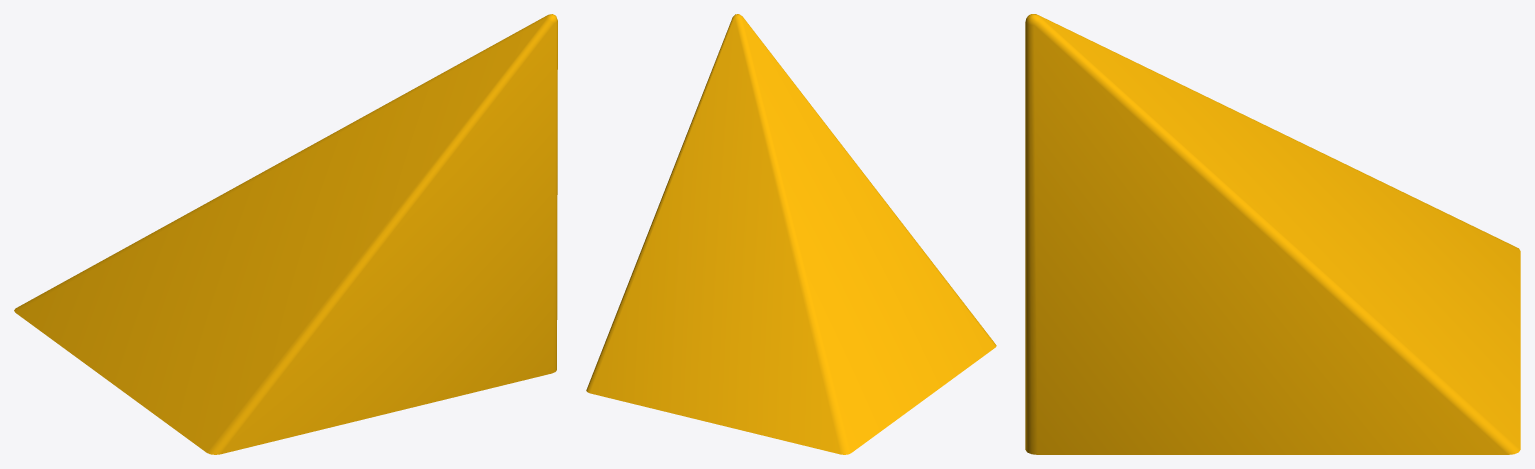
File: Raised_Corner.fbx
3 views of the same model, side by side, from view 1: azimuth 30°, elevation 25°; view 2: azimuth 150°, elevation 25°; view 3: azimuth 270°, elevation 25° (orthographic). The views are drawn at different scales.
Visible parts, largest first — view 1: Raised_Corner; view 2: Raised_Corner; view 3: Raised_Corner.
Part boxes in pixels (x1,y1,x2,y2): Raised_Corner: [14, 14, 557, 454]; Raised_Corner: [586, 14, 996, 454]; Raised_Corner: [1025, 14, 1520, 454].
Bounding box in the file's own units: 1 × 0.9738 × 1.
